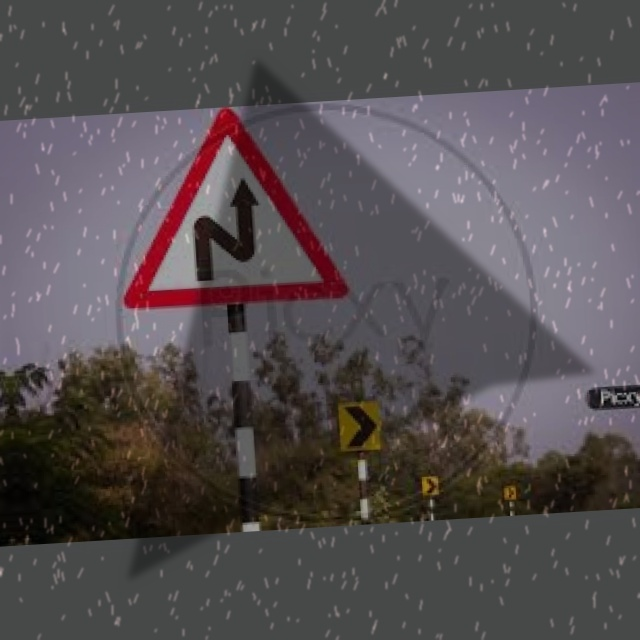Right_Reverse_Bend: (120, 100, 344, 308)
